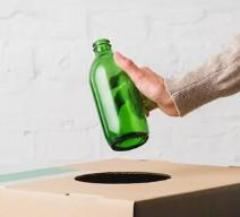glass: (86, 36, 152, 154)
